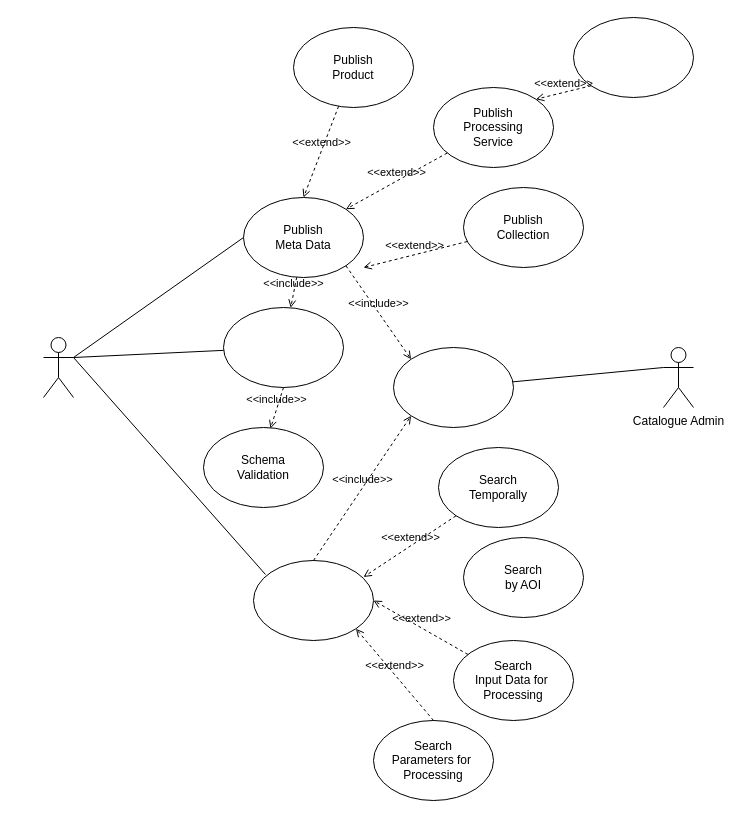
Some shapes in this 741 by 818 pixel diagram are drawn without their labels. Each missing label, with the box of its shape:
Authorisation: (392, 346, 514, 428)
Catalogue User: (42, 336, 74, 398)
Compliance: (222, 306, 344, 388)
Publish Interactive Application: (572, 16, 694, 98)
Search Meta Data: (252, 560, 374, 640)
